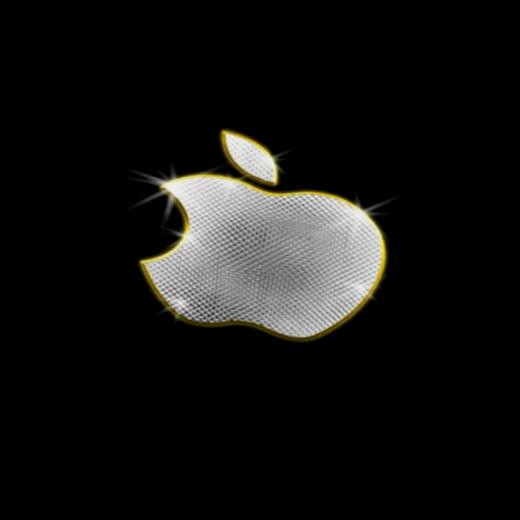Apple: (111, 116, 394, 339)
